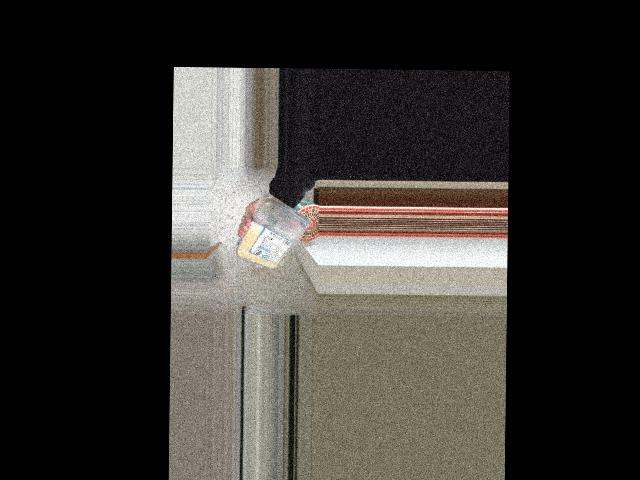cheese: (245, 202, 307, 272)
